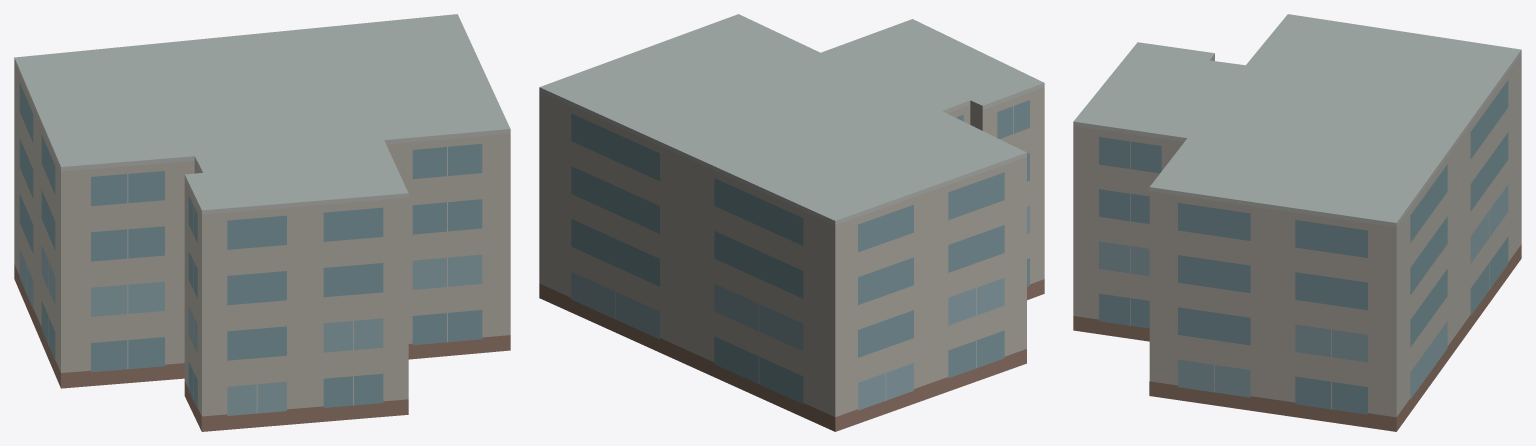
File: survey-upis-32685483.glb
3 views of the same model, side by side, from view 1: azimuth 30°, elevation 25°; view 2: azimuth 150°, elevation 25°; view 3: azimuth 270°, elevation 25° (orthographic). The views are drawn at different scales.
Parts seen in each view (by area): view 1: survey-upis-32685483.tmp; view 2: survey-upis-32685483.tmp; view 3: survey-upis-32685483.tmp.
Boxes of the visible parts, x1,y1,x2,y2 form: survey-upis-32685483.tmp: (14,14,510,431); survey-upis-32685483.tmp: (539,14,1044,431); survey-upis-32685483.tmp: (1073,14,1521,431).
Bounding box in the file's own units: 25.72 × 11.98 × 23.31.
